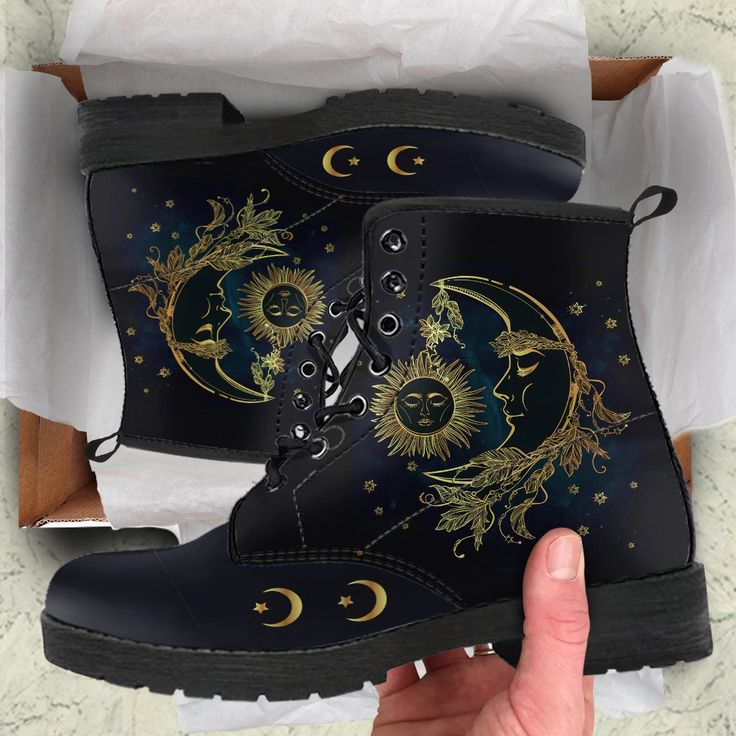cuero: (42, 125, 695, 648)
